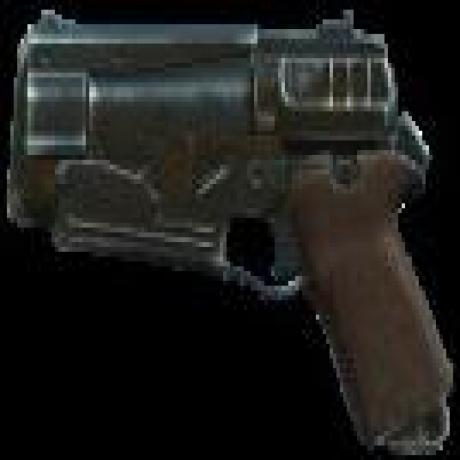weapon: (7, 5, 460, 460)
